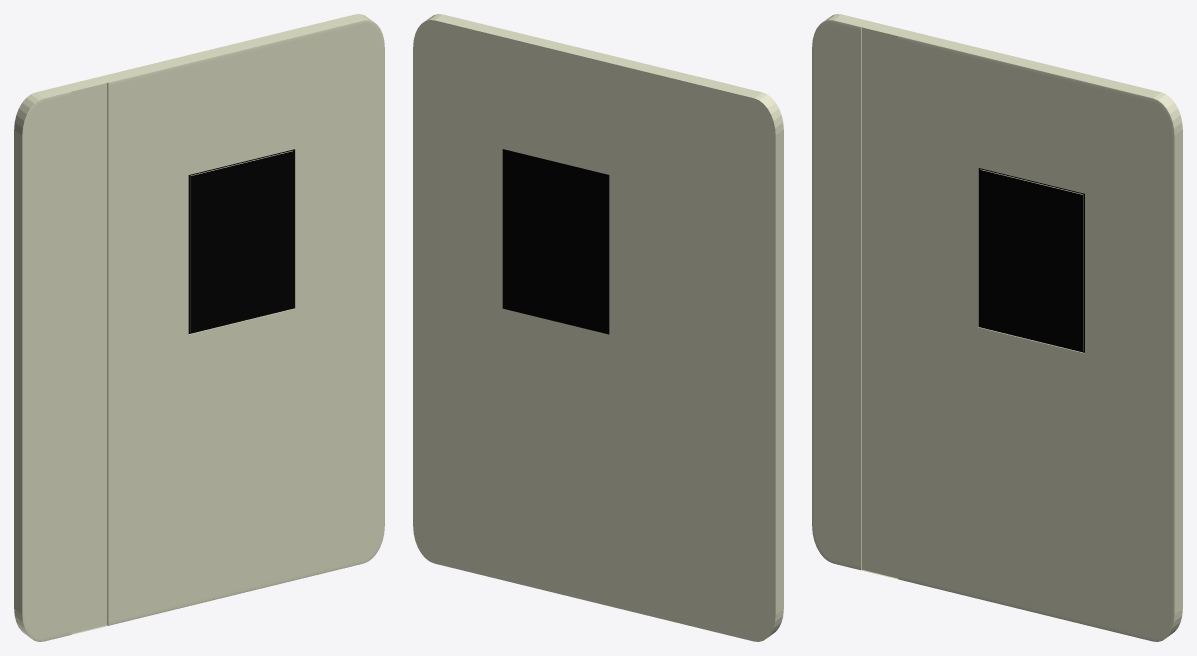
File: keycard 1.fbx
3 views of the same model, side by side, from view 1: azimuth 30°, elevation 25°; view 2: azimuth 150°, elevation 25°; view 3: azimuth 330°, elevation 25° (orthographic).
Parts seen in each view (by area): view 1: Cube; view 2: Cube; view 3: Cube.
Part boxes in pixels (x1,y1,x2,y2): Cube: [14, 14, 384, 641]; Cube: [413, 14, 783, 641]; Cube: [812, 14, 1182, 641].
Bounding box in the file's own units: 200 × 286 × 7.97.
